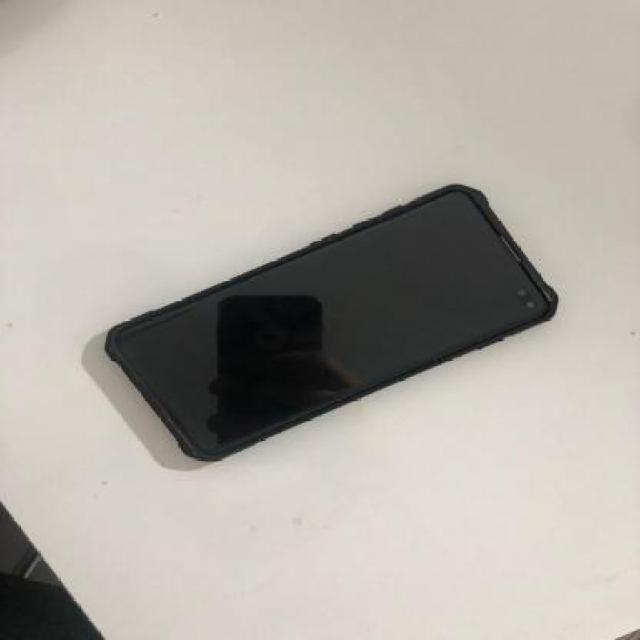phone: (105, 179, 561, 467)
